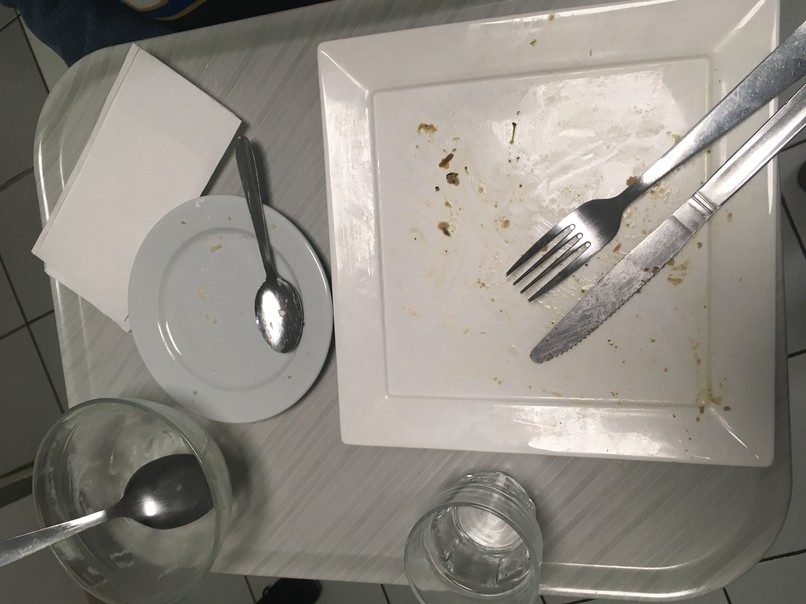cup: (390, 461, 544, 604)
cutlery: (498, 24, 806, 370), (1, 446, 218, 595), (222, 126, 316, 352)
trash: (46, 52, 235, 324)
